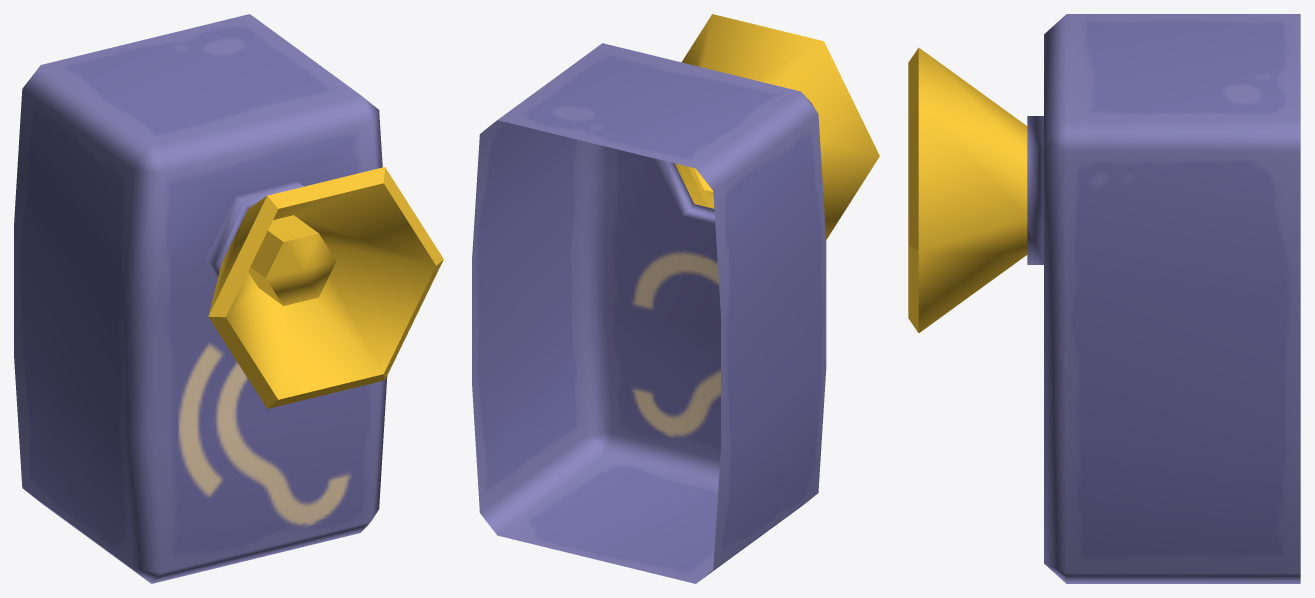
File: borne_sonore.fbx
The picture shows the model from 3 angles, left to right: view 1: azimuth 30°, elevation 25°; view 2: azimuth 150°, elevation 25°; view 3: azimuth 270°, elevation 25°; orthographic projection. The views are drawn at different scales.
Parts seen in each view (by area): view 1: borne_sonore; view 2: borne_sonore; view 3: borne_sonore.
Part boxes in pixels (x1,y1,x2,y2): borne_sonore: (14, 14, 443, 583); borne_sonore: (472, 14, 879, 583); borne_sonore: (908, 14, 1300, 583).
Bounding box in the file's own units: 24.24 × 38.63 × 29.7.
